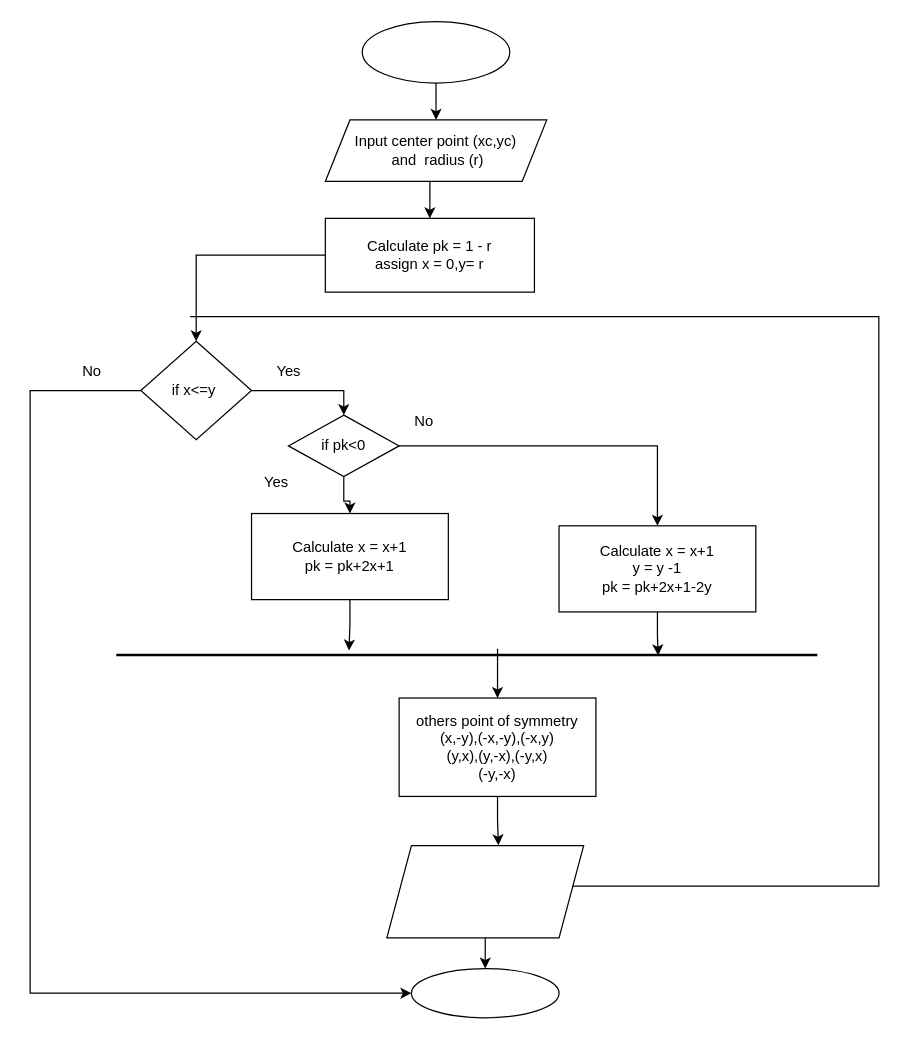
The diagram is 902 pixels wide and 1039 high, and some of its shapes have lost their labels. The shapes that lost their labels are listed below. From the top down, each one's centre as x and y in pixels, then its label:
[435,51]: Start
[485,891]: x=x+xc y= y +yc Print x and y
[484,992]: Stop
